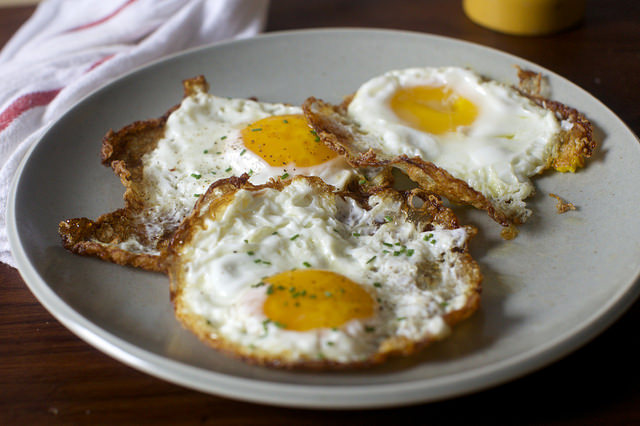fried egg: (189, 189, 466, 371), (346, 60, 537, 186), (162, 89, 354, 209)
